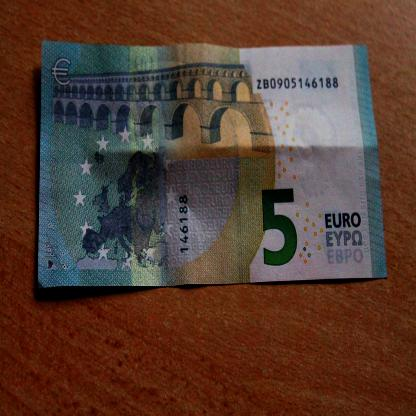euro_banknote: (38, 41, 387, 289)
